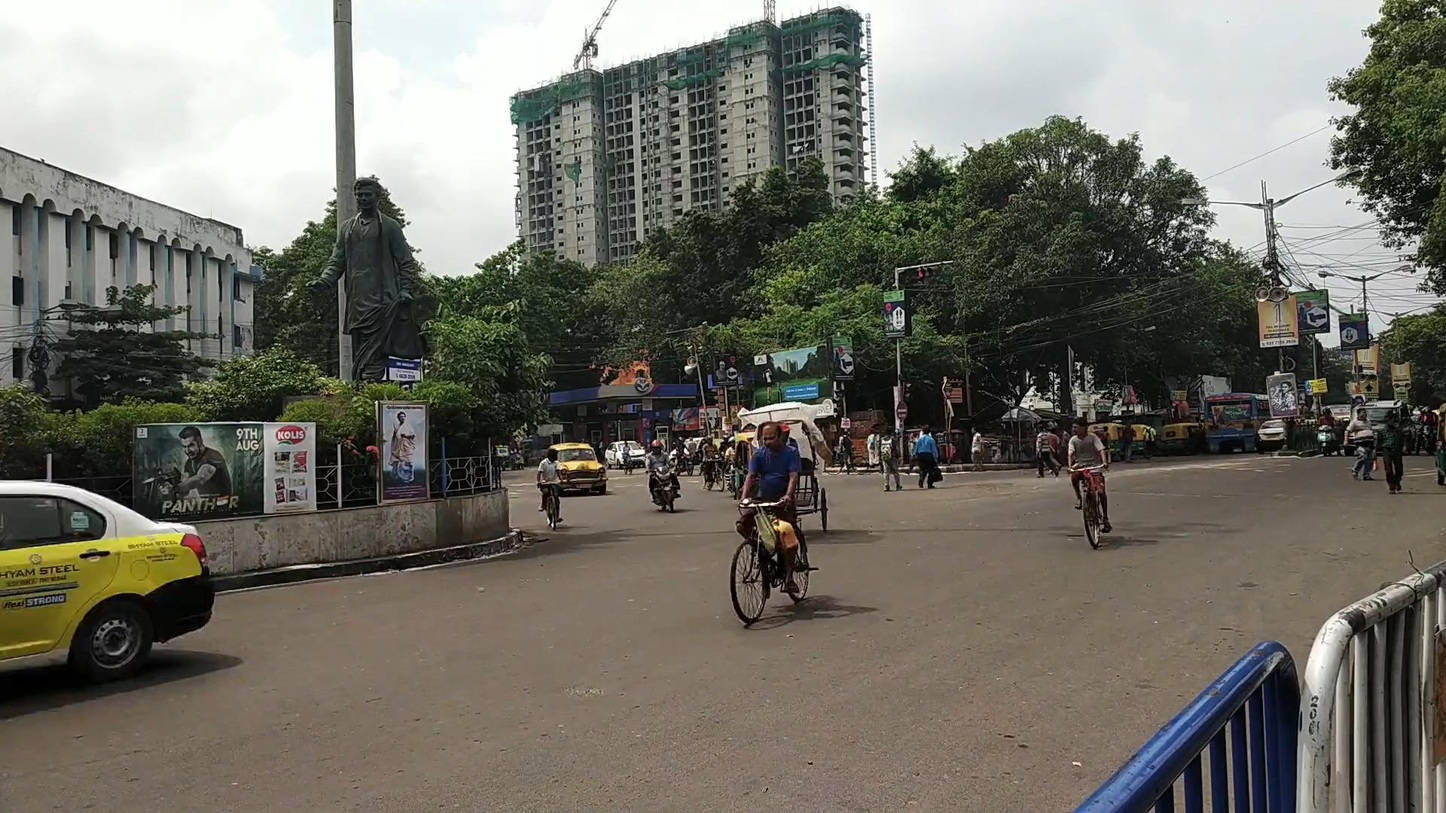bicyclist: (730, 421, 819, 625), (1068, 418, 1111, 550)
driver: (645, 439, 682, 512)
no-helmet: (763, 423, 782, 449), (1072, 418, 1088, 436)
